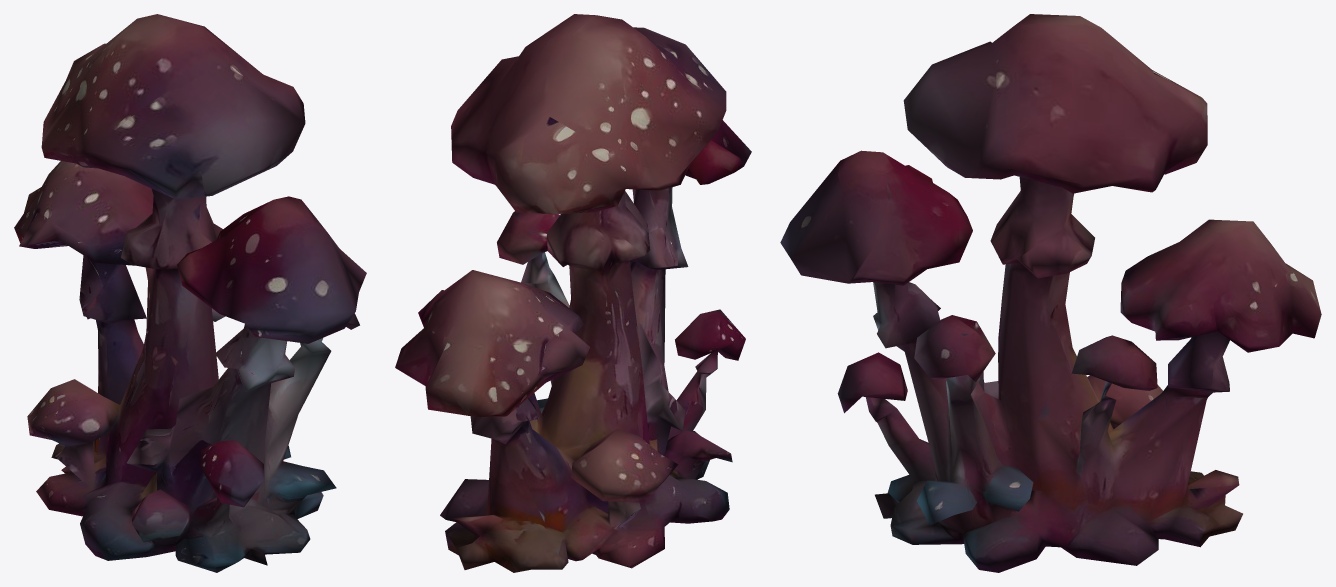
Rendered from fungus.glb.
3 renders of one model, left to right at view 1: azimuth 30°, elevation 25°; view 2: azimuth 150°, elevation 25°; view 3: azimuth 270°, elevation 25°, orthographic.
Visible parts, largest first — view 1: tripo_node_759a955d-cde3-40e3-83f3-1103828eabd0; view 2: tripo_node_759a955d-cde3-40e3-83f3-1103828eabd0; view 3: tripo_node_759a955d-cde3-40e3-83f3-1103828eabd0.
Part boxes in pixels (x1,y1,x2,y2): tripo_node_759a955d-cde3-40e3-83f3-1103828eabd0: (14, 14, 366, 572); tripo_node_759a955d-cde3-40e3-83f3-1103828eabd0: (395, 14, 751, 572); tripo_node_759a955d-cde3-40e3-83f3-1103828eabd0: (780, 14, 1321, 572).
Size of the model in its own units: 0.5218 by 0.9946 by 0.984.
Materials: 1 (1 with a texture image).
